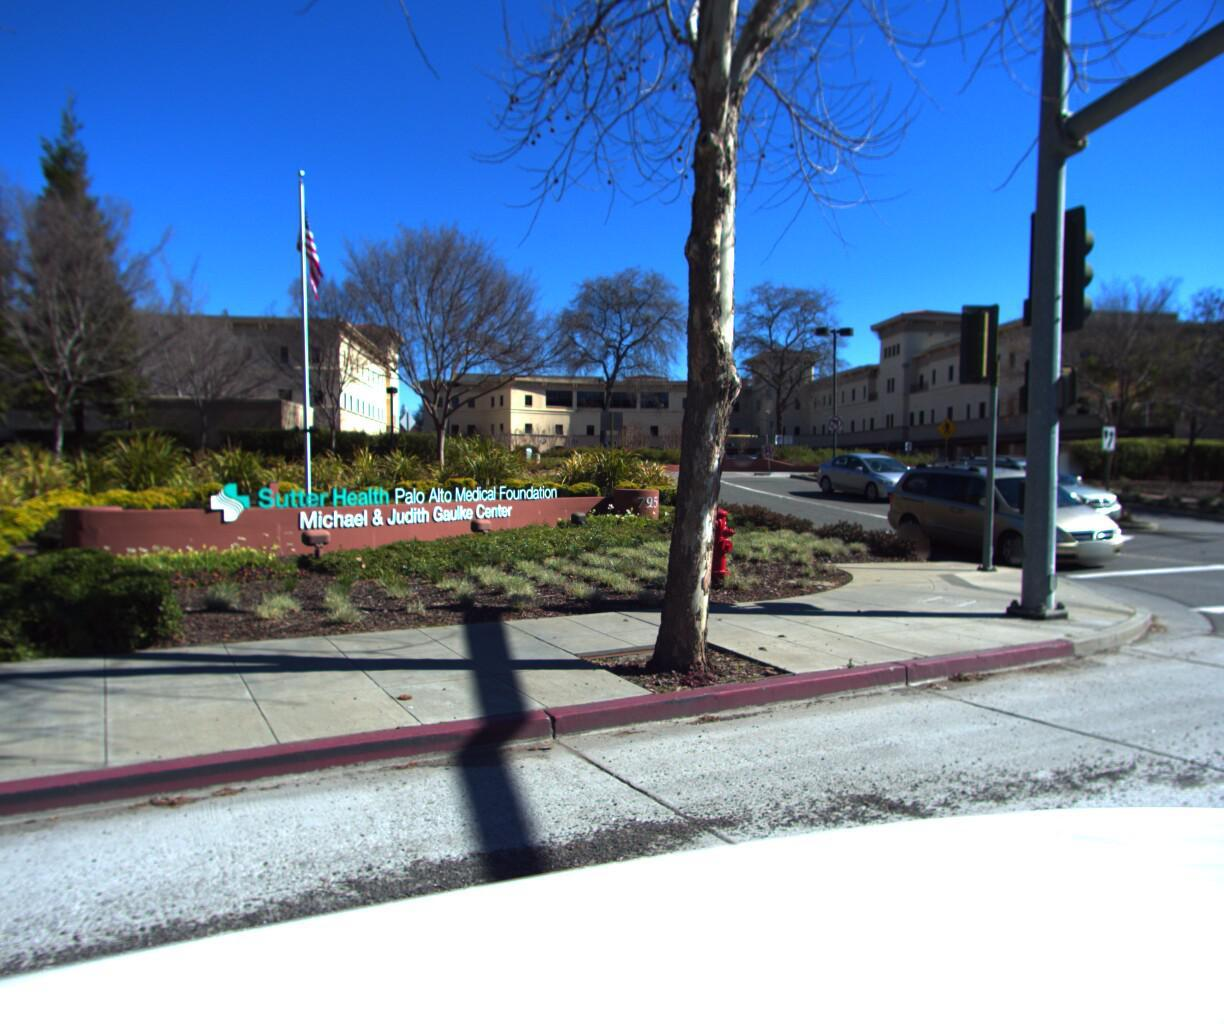car: (870, 446, 1154, 574), (931, 446, 1141, 534), (806, 448, 943, 502)
